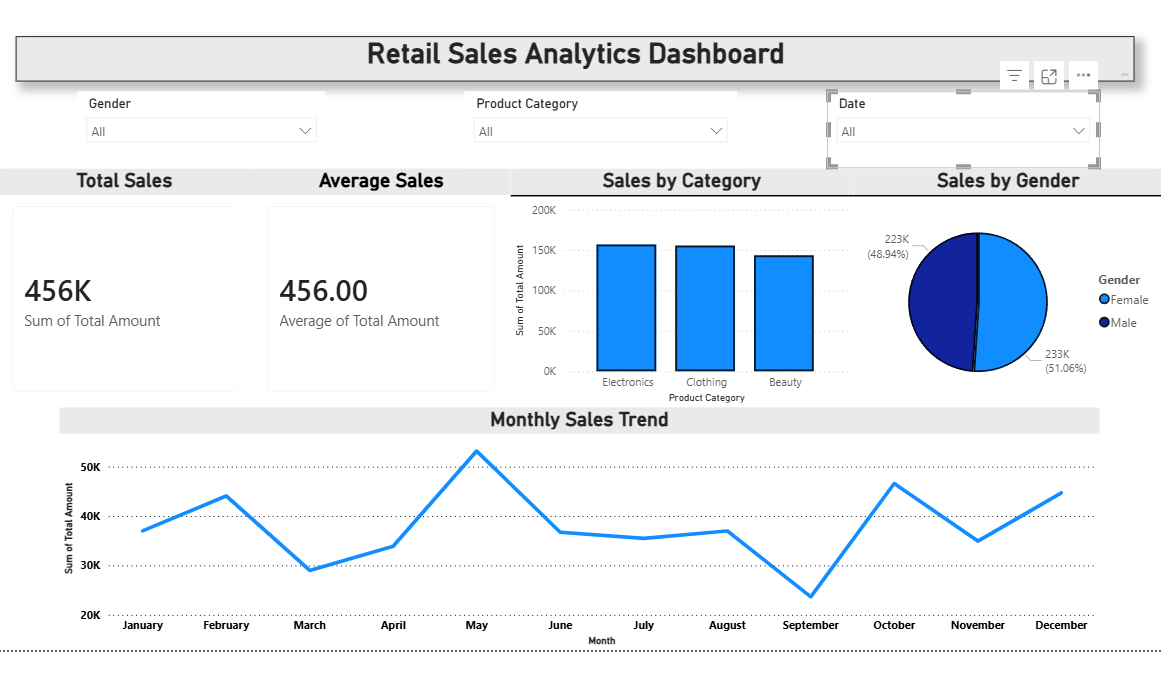

The dashboard page shown, as its layout file describes it:
{"tool":"powerbi","page":{"name":"Page 1","canvas":[1280,720],"ordinal":0},"visuals":[{"type":"cardVisual","title":"Total Sales","fields":{"Data":["Sum(sales_data.Total Amount)"]},"box":[0,190.7,279.9,262.1],"z":0},{"type":"cardVisual","title":"Average Sales","fields":{"Data":["Avg(sales_data.Total Amount)"]},"box":[279.9,190.7,284,262.1],"z":1000},{"type":"clusteredColumnChart","title":"Sales by Category","fields":{"Category":["sales_data.Product Category"],"Y":["Sum(sales_data.Total Amount)"]},"box":[564,190.7,376,262.1],"z":2000},{"type":"pieChart","title":"Sales by Gender","fields":{"Category":["sales_data.Gender"],"Y":["Sum(sales_data.Total Amount)"]},"box":[940,190.7,340.3,262.1],"z":3000},{"type":"lineChart","title":"Monthly Sales Trend","fields":{"Y":["Sum(sales_data.Total Amount)"],"Category":["sales_data.Date.Variation.Date Hierarchy.Month"]},"box":[68.6,452.8,1141.7,267.6],"z":4000},{"type":"textbox","title":"Retail Sales Analytics Dashboard","box":[20.6,45.3,1228.1,49.4],"z":5000},{"type":"slicer","fields":{"Values":["sales_data.Gender"]},"box":[87.8,105.7,273.1,85.1],"z":6000},{"type":"slicer","fields":{"Values":["sales_data.Product Category"]},"box":[513.2,105.7,299.1,85.1],"z":6001},{"type":"slicer","fields":{"Values":["sales_data.Date"]},"box":[911.2,105.7,299.1,85.1],"z":6002}]}

Visuals, with their boxes on the page's 1280x720 design canvas (x1, y1, x2, y2). These are canvas units, not pixel positions in the 1161x680 screenshot, which may show the page scaled, cropped or inside an application window:
"Total Sales" cardVisual: <region>0, 191, 280, 453</region>
"Average Sales" cardVisual: <region>280, 191, 564, 453</region>
"Sales by Category" clusteredColumnChart: <region>564, 191, 940, 453</region>
"Sales by Gender" pieChart: <region>940, 191, 1280, 453</region>
"Monthly Sales Trend" lineChart: <region>69, 453, 1210, 720</region>
"Retail Sales Analytics Dashboard" textbox: <region>21, 45, 1249, 95</region>
slicer - sales_data.Gender: <region>88, 106, 361, 191</region>
slicer - sales_data.Product Category: <region>513, 106, 812, 191</region>
slicer - sales_data.Date: <region>911, 106, 1210, 191</region>
